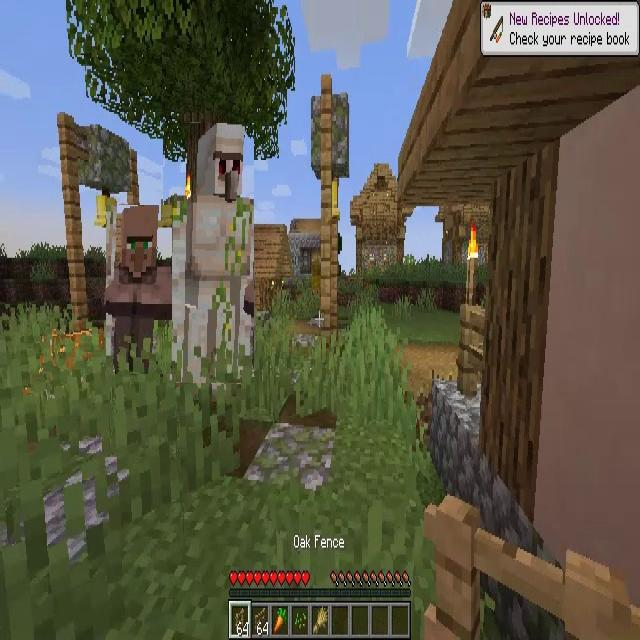people: (163, 123, 254, 383), (106, 205, 172, 374)
